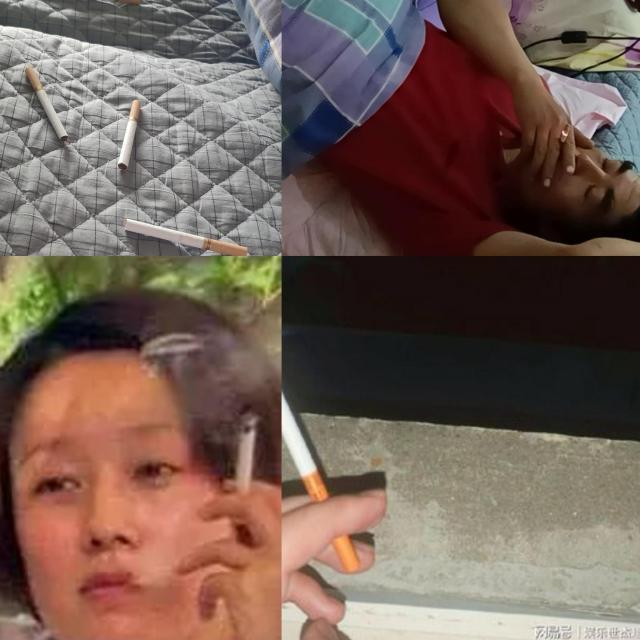cigarette: (282, 323, 362, 574), (124, 218, 249, 255), (25, 68, 71, 144), (232, 408, 258, 527), (118, 100, 142, 171), (68, 0, 141, 5), (558, 124, 570, 150)
